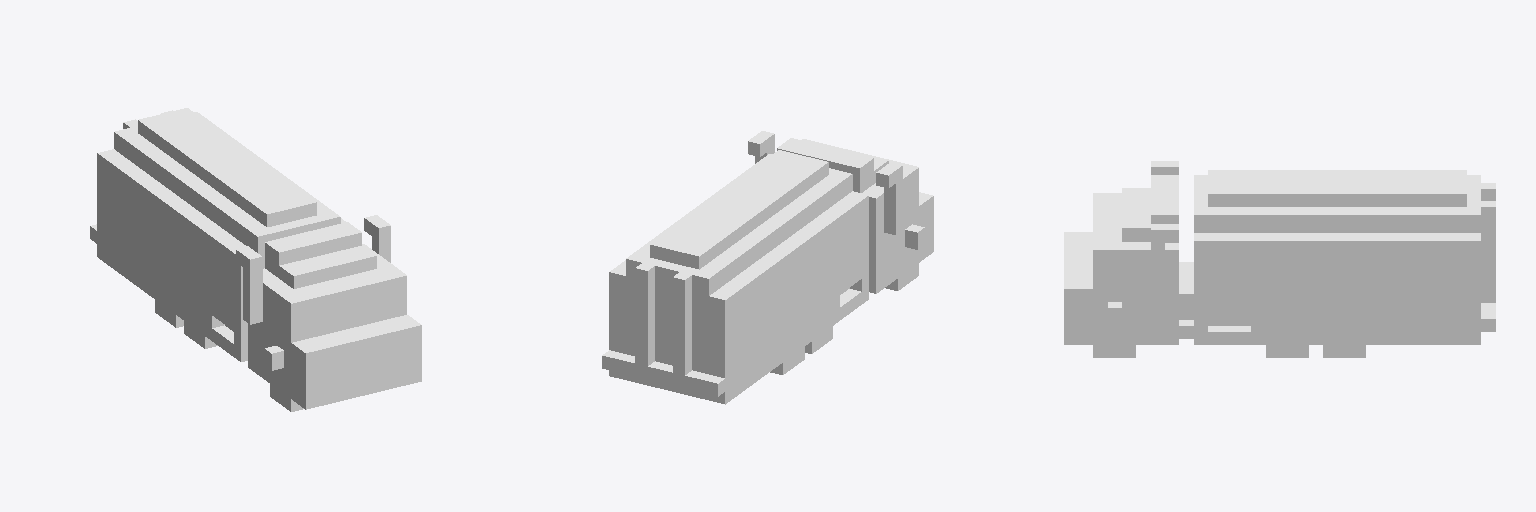
Rendered from truck3.obj.
3 views of the same model, side by side, from view 1: azimuth 30°, elevation 25°; view 2: azimuth 150°, elevation 25°; view 3: azimuth 270°, elevation 25° (orthographic).
Parts seen in each view (by area): view 1: object 1; view 2: object 1; view 3: object 1.
Boxes of the visible parts, box(x1,y1,x2,y2) form: object 1: box(90, 108, 421, 411); object 1: box(602, 131, 933, 404); object 1: box(1064, 161, 1495, 357).
Size of the model in its own units: 3.4 by 3.4 by 9.